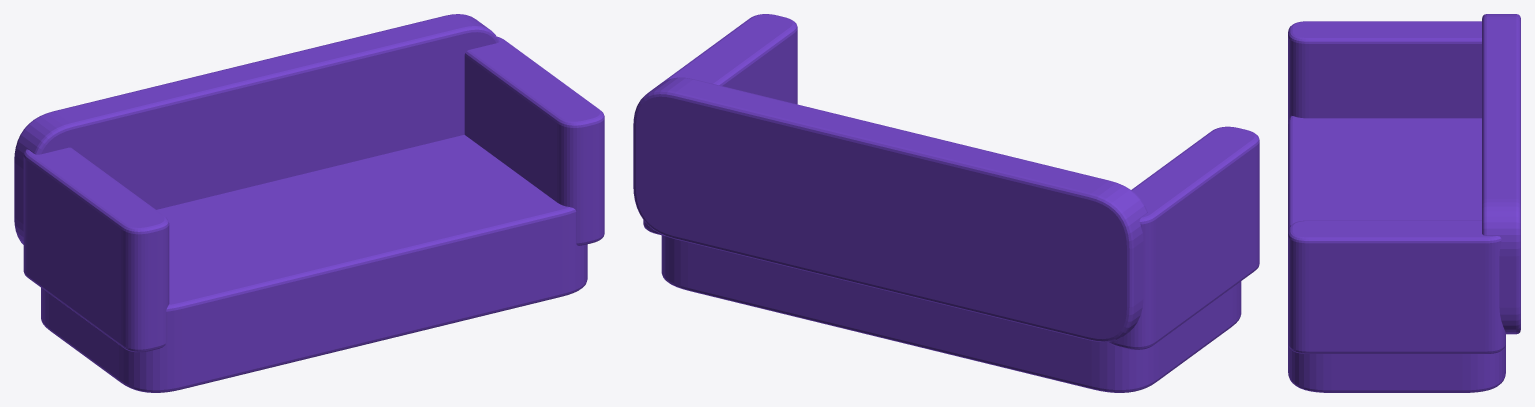
Rendered from sofa.glb.
3 renders of one model, left to right at view 1: azimuth 30°, elevation 25°; view 2: azimuth 150°, elevation 25°; view 3: azimuth 270°, elevation 25°, orthographic. The views are drawn at different scales.
Size of the model in its own units: 1.74 by 0.665 by 0.78.
